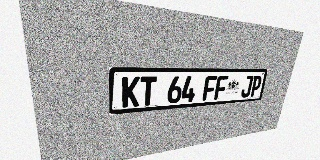4: (181, 76, 197, 103)
6: (167, 76, 183, 104)
F: (202, 76, 217, 101), (214, 76, 229, 100)
J: (240, 75, 254, 98)
K: (122, 77, 140, 108)
P: (249, 75, 263, 97)
T: (140, 76, 157, 106)
